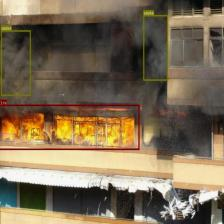fire: (0, 104, 139, 149)
smoke: (1, 30, 31, 96), (143, 15, 168, 80)
